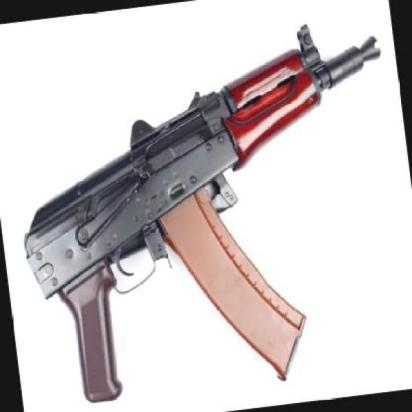Gun: (1, 29, 411, 412)
